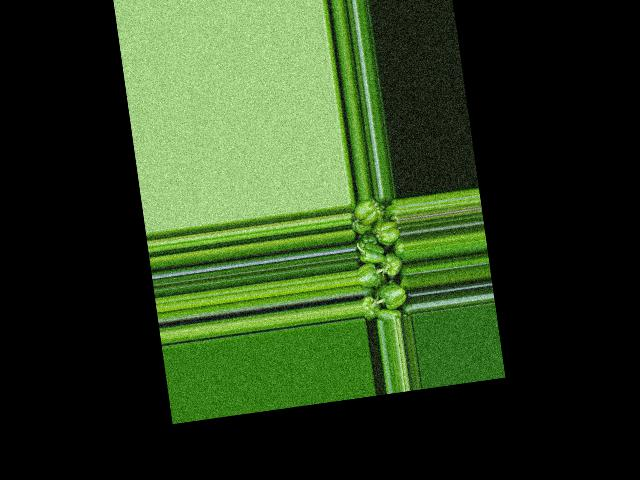bell_pepper: (349, 194, 413, 321)
